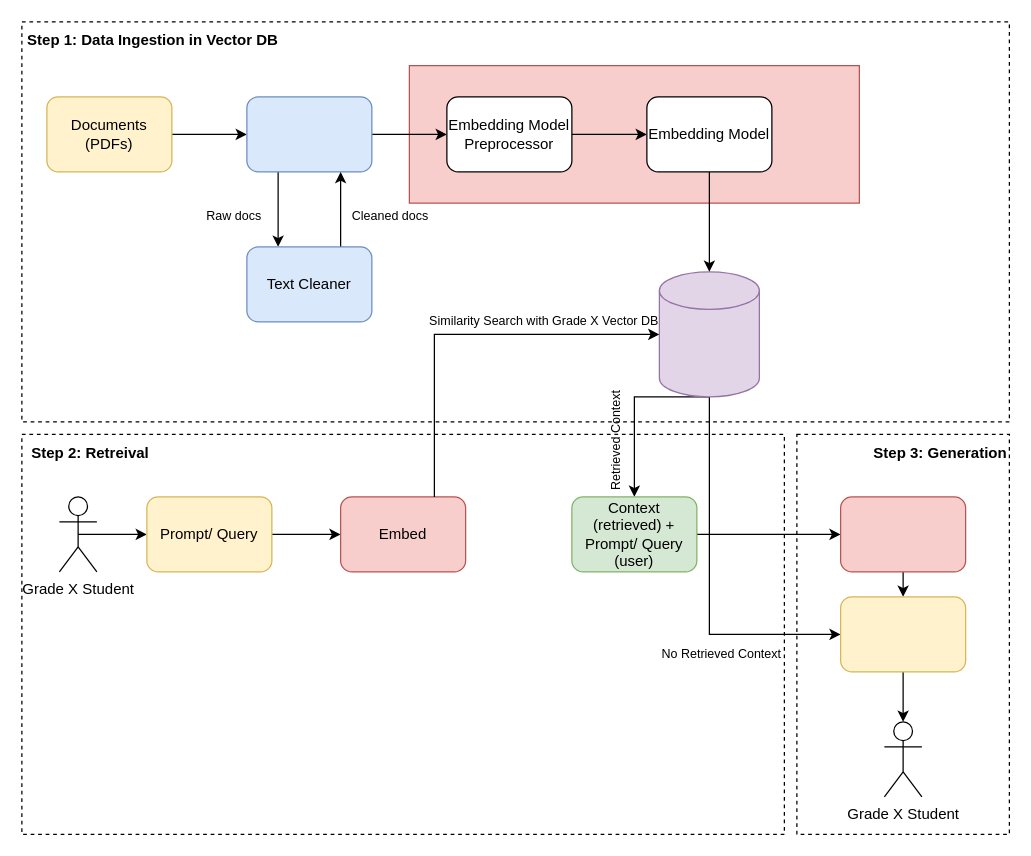
This 1031x856 diagram has some shape labels left out. Each missing label, with the box of its shape:
Documents Processor: (246, 96, 372, 172)
LLM: (839, 496, 966, 572)
Response with real time retrieved knowledge: (839, 596, 966, 672)
Vector DB: (658, 271, 759, 397)
